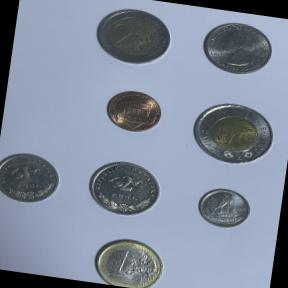coin: (184, 94, 281, 176), (86, 1, 179, 74), (80, 152, 168, 224), (194, 14, 279, 86), (84, 230, 171, 288), (100, 85, 168, 138), (192, 180, 256, 235)
